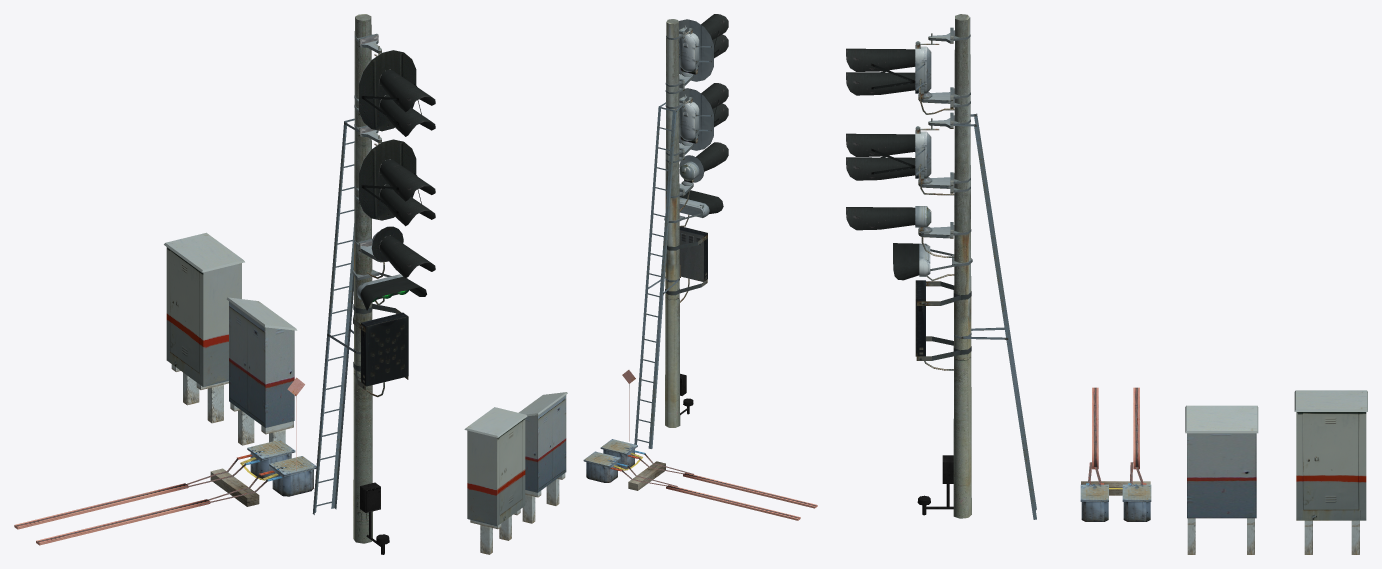
The model's file is ab_entr.gltf.
3 views of the same model, side by side, from view 1: azimuth 30°, elevation 25°; view 2: azimuth 150°, elevation 25°; view 3: azimuth 270°, elevation 25° (orthographic). The views are drawn at different scales.
Parts seen in each view (by area): view 1: Scene Root_релейный ящик_релейный ящик-, Scene Root_релейный ящик2_релейный ящик, Scene Root_Signal_Signal-OFFSET_Signal-GEODE_TransNorm1_0, Scene Root_лестница_лестница-GEODE_TransNorm1_0, Scene Root_Маршрутный указатель_Маршру, Scene Root_Box09_Box09-GEODE_TransNorm1_0, Scene Root_Щит головки01_Щит головки01-GEOD, Scene Root_Щит головки02_Щит головки02-OFFS, Scene Root_Дроссель2_Дроссель2-GEODE_TransNorm1, Scene Root_Green3_linzPol_Green3_linzPol-GEODE_TransNorm1_0, Scene Root_Box17_Box17-GEODE_TransNorm1_0, Scene Root_козырёк-01_козырёк-01-OFFSET_козы (+8 smaller); view 2: Scene Root_релейный ящик_релейный ящик-, Scene Root_Signal_Signal-OFFSET_Signal-GEODE_TransNorm1_0, Scene Root_релейный ящик2_релейный ящик, Scene Root_лестница_лестница-GEODE_TransNorm1_0, Scene Root_Маршрутный указатель_Маршру, Scene Root_Box09_Box09-GEODE_TransNorm1_0, Scene Root_Green3_linzPol_Green3_linzPol-GEODE_TransNorm1_0, Scene Root_Object04_Object04-GEODE_TransNorm1_0, Scene Root_Object03_Object03-GEODE_TransNorm1_0, Scene Root_Дроссель1_Дроссель1-GEODE_TransNorm1, Scene Root_Box02_Box02-GEODE_TransNorm1_0, Scene Root_Box17_Box17-GEODE_TransNorm1_0 (+7 smaller); view 3: Scene Root_релейный ящик_релейный ящик-, Scene Root_Signal_Signal-OFFSET_Signal-GEODE_TransNorm1_0, Scene Root_релейный ящик2_релейный ящик, Scene Root_лестница_лестница-GEODE_TransNorm1_0, Scene Root_Маршрутный указатель_Маршру, Scene Root_Green3_linzPol_Green3_linzPol-GEODE_TransNorm1_0, Scene Root_козырёк-01_козырёк-01-OFFSET_козы, Scene Root_козырёк-06_козырёк-06-OFFSET_козы, Scene Root_козырёк-05_козырёк-05-OFFSET_козы, Scene Root_козырёк-04_козырёк-04-OFFSET_козы, Scene Root_козырёк-07_козырёк-07-OFFSET_козы, Scene Root_Box09_Box09-GEODE_TransNorm1_0 (+6 smaller).
Part boxes in pixels (<box>): Scene Root_релейный ящик_релейный ящик-: <box>164,232,244,386</box>; Scene Root_релейный ящик2_релейный ящик: <box>226,297,297,427</box>; Scene Root_Signal_Signal-OFFSET_Signal-GEODE_TransNorm1_0: <box>353,14,372,543</box>; Scene Root_лестница_лестница-GEODE_TransNorm1_0: <box>312,118,358,514</box>; Scene Root_Маршрутный указатель_Маршру: <box>353,303,408,397</box>; Scene Root_Box09_Box09-GEODE_TransNorm1_0: <box>14,458,267,545</box>; Scene Root_Щит головки01_Щит головки01-GEOD: <box>359,139,416,220</box>; Scene Root_Щит головки02_Щит головки02-OFFS: <box>359,50,416,131</box>; Scene Root_Дроссель2_Дроссель2-GEODE_TransNorm1: <box>269,456,316,496</box>; Scene Root_Green3_linzPol_Green3_linzPol-GEODE_TransNorm1_0: <box>352,269,426,310</box>; Scene Root_Box17_Box17-GEODE_TransNorm1_0: <box>171,364,228,423</box>; Scene Root_козырёк-01_козырёк-01-OFFSET_козы: <box>379,236,435,278</box>; Scene Root_релейный ящик_релейный ящик-: <box>464,407,527,525</box>; Scene Root_Signal_Signal-OFFSET_Signal-GEODE_TransNorm1_0: <box>665,19,680,427</box>; Scene Root_релейный ящик2_релейный ящик: <box>518,392,567,492</box>; Scene Root_лестница_лестница-GEODE_TransNorm1_0: <box>634,102,683,448</box>; Scene Root_Маршрутный указатель_Маршру: <box>665,227,707,302</box>; Scene Root_Box09_Box09-GEODE_TransNorm1_0: <box>621,453,817,520</box>; Scene Root_Green3_linzPol_Green3_linzPol-GEODE_TransNorm1_0: <box>664,190,723,226</box>; Scene Root_Object04_Object04-GEODE_TransNorm1_0: <box>678,19,713,81</box>; Scene Root_Object03_Object03-GEODE_TransNorm1_0: <box>679,88,713,150</box>; Scene Root_Дроссель1_Дроссель1-GEODE_TransNorm1: <box>583,451,620,482</box>; Scene Root_Box02_Box02-GEODE_TransNorm1_0: <box>522,473,565,523</box>; Scene Root_Box17_Box17-GEODE_TransNorm1_0: <box>470,509,520,554</box>; Scene Root_релейный ящик_релейный ящик-: <box>1294,390,1367,520</box>; Scene Root_Signal_Signal-OFFSET_Signal-GEODE_TransNorm1_0: <box>953,14,971,518</box>; Scene Root_релейный ящик2_релейный ящик: <box>1185,405,1258,518</box>; Scene Root_лестница_лестница-GEODE_TransNorm1_0: <box>953,113,1036,519</box>; Scene Root_Маршрутный указатель_Маршру: <box>915,280,971,370</box>; Scene Root_Green3_linzPol_Green3_linzPol-GEODE_TransNorm1_0: <box>893,243,972,280</box>; Scene Root_козырёк-01_козырёк-01-OFFSET_козы: <box>846,207,915,230</box>; Scene Root_козырёк-06_козырёк-06-OFFSET_козы: <box>846,48,915,71</box>; Scene Root_козырёк-05_козырёк-05-OFFSET_козы: <box>846,133,915,156</box>; Scene Root_козырёк-04_козырёк-04-OFFSET_козы: <box>846,157,915,180</box>; Scene Root_козырёк-07_козырёк-07-OFFSET_козы: <box>846,72,915,95</box>; Scene Root_Box09_Box09-GEODE_TransNorm1_0: <box>1088,387,1143,484</box>.
Size of the model in its own units: 4.6 by 7.66 by 6.98.
Materials: 2 (2 with a texture image).
